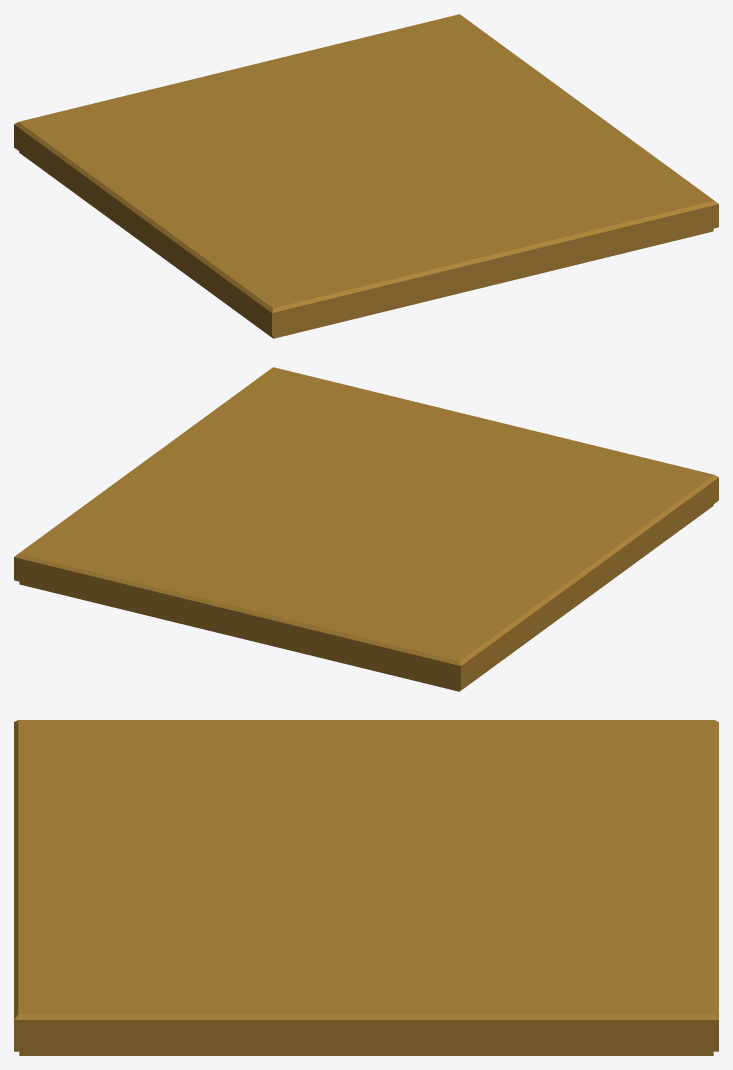
Rendered from 6x6Flat.dae.
3 views of the same model, one above another, from view 1: azimuth 30°, elevation 25°; view 2: azimuth 150°, elevation 25°; view 3: azimuth 270°, elevation 25° (orthographic). The views are drawn at different scales.
Parts seen in each view (by area): view 1: Part.0; view 2: Part.0; view 3: Part.0.
Part boxes in pixels (x1=…): Part.0: x1=14, y1=14, x2=718, y2=338; Part.0: x1=14, y1=367, x2=718, y2=691; Part.0: x1=14, y1=720, x2=718, y2=1055.
Size of the model in its own units: 47.92 by 3.16 by 47.92.
